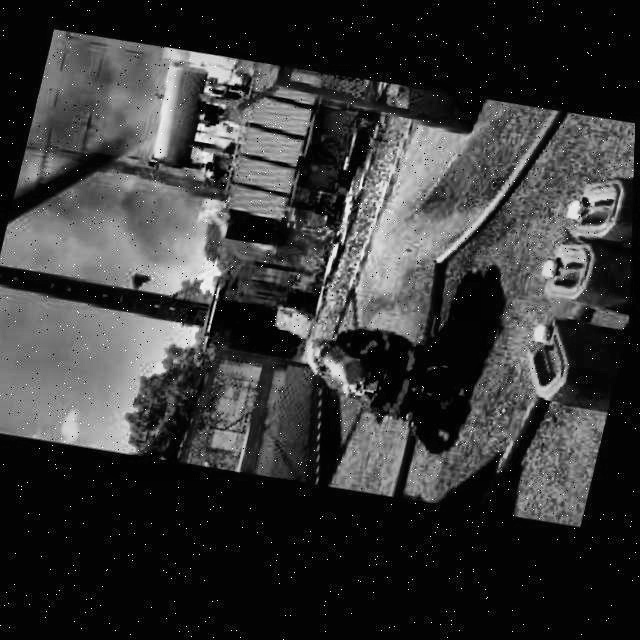Fire: (275, 205, 335, 280), (191, 201, 236, 241), (251, 241, 277, 258)
Smoke: (3, 19, 236, 280)
